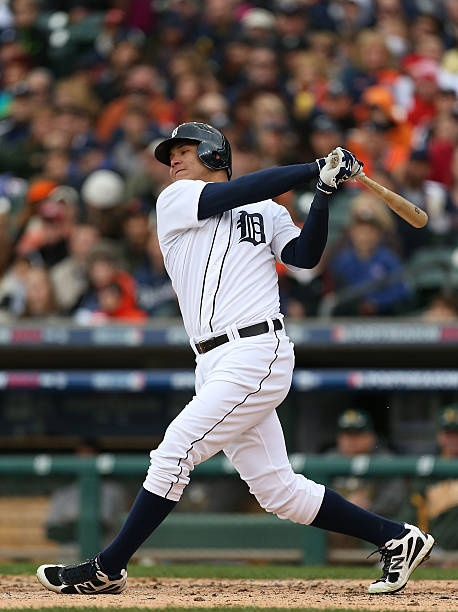bita: (334, 154, 431, 231)
